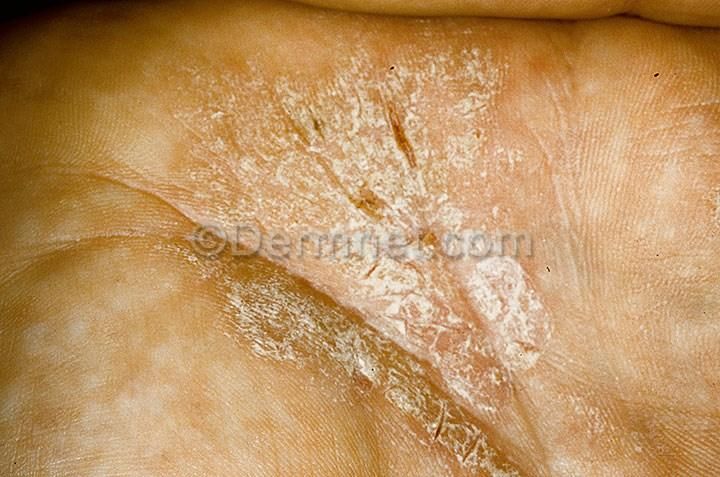Eczema: (196, 263, 535, 447), (204, 62, 510, 229)
